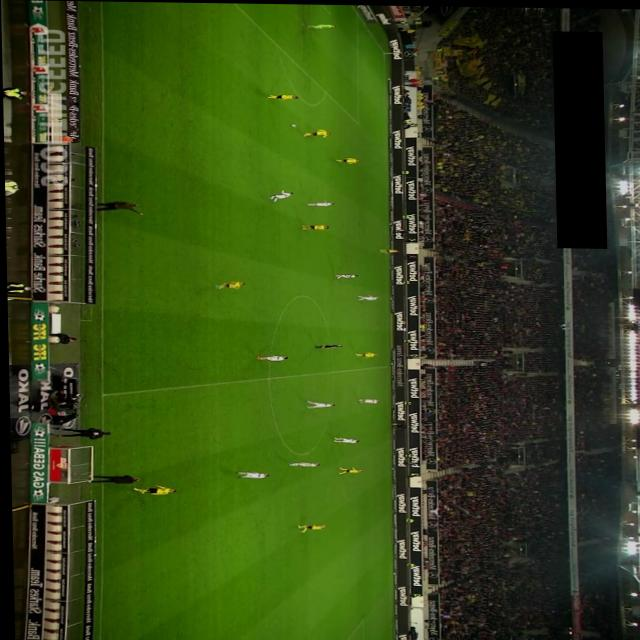goalkeeper: (305, 23, 335, 29)
player: (130, 484, 174, 495), (267, 190, 293, 202), (232, 470, 266, 479), (212, 280, 243, 289), (294, 523, 324, 532), (303, 399, 333, 408), (302, 128, 331, 137), (333, 156, 360, 164), (335, 466, 360, 474), (300, 223, 328, 230), (254, 354, 286, 360), (266, 93, 298, 99), (304, 200, 333, 206), (330, 436, 357, 442), (285, 461, 317, 466), (332, 272, 357, 278), (352, 351, 376, 357), (355, 397, 379, 403), (355, 294, 377, 300), (378, 248, 399, 252)
referee: (387, 422, 409, 429), (312, 343, 340, 347)
